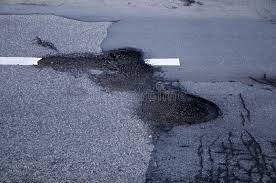potholes: (98, 44, 226, 135)
